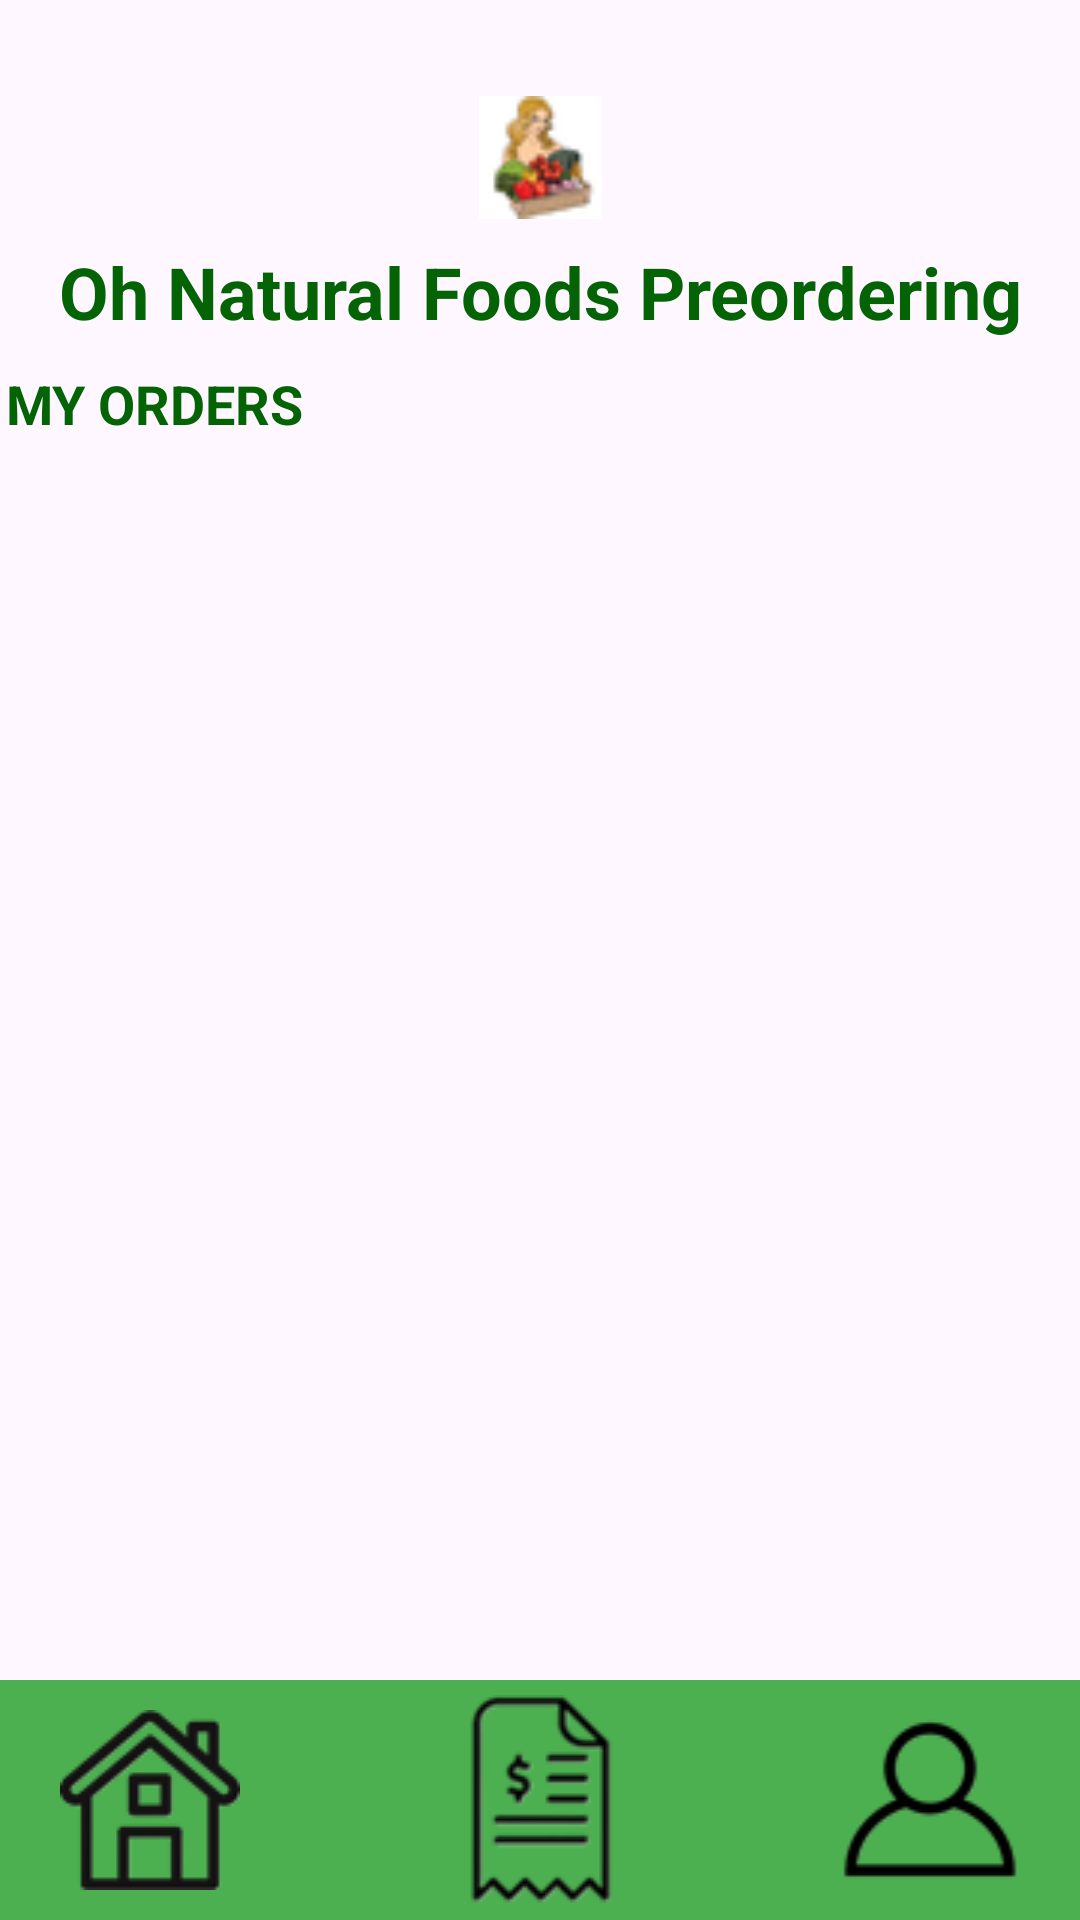

Locate icon controls on the screen. Image size 1080x1920, boxes as (x1=x1, y1=y1, x2=x2, y2=y2).
orders: (x1=471, y1=1697, x2=611, y2=1902)
